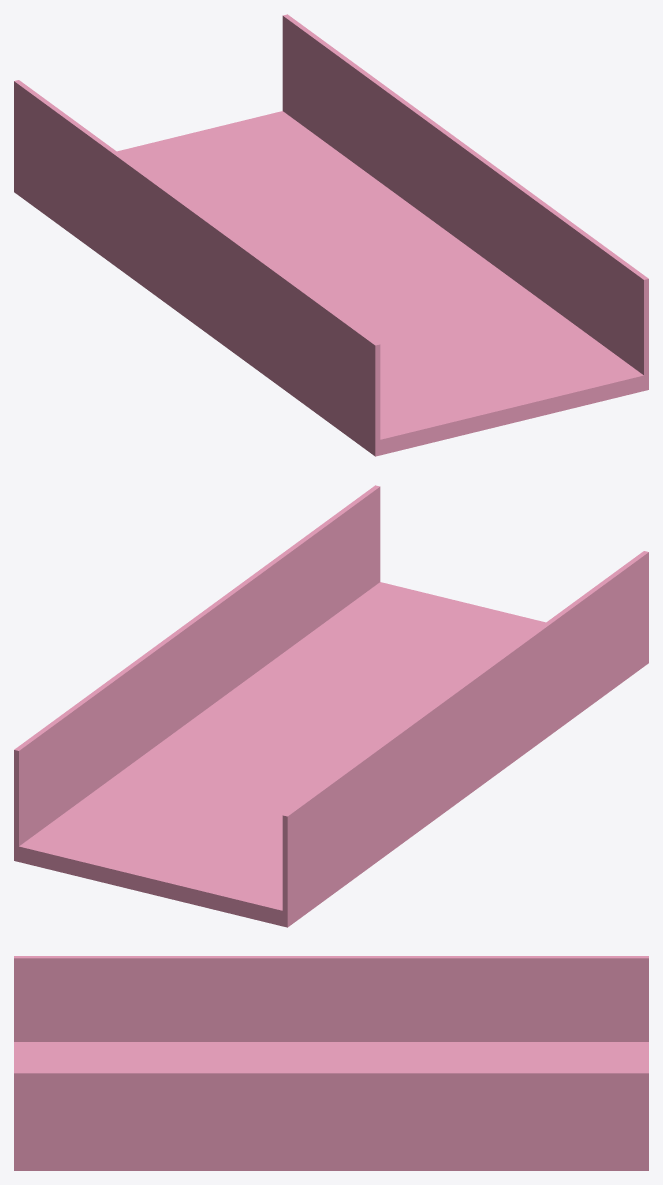
Rendered from climb-7.glb.
3 views of the same model, one above another, from view 1: azimuth 30°, elevation 25°; view 2: azimuth 150°, elevation 25°; view 3: azimuth 270°, elevation 25° (orthographic). The views are drawn at different scales.
Parts seen in each view (by area): view 1: climb-7; view 2: climb-7; view 3: climb-7.
Part boxes in pixels (bbox=[...]): climb-7: bbox=[14, 14, 648, 456]; climb-7: bbox=[14, 485, 648, 927]; climb-7: bbox=[14, 956, 648, 1170].
Size of the model in its own units: 3.3 by 1.28 by 7.55.
Materials: 1 (1 with a texture image).
